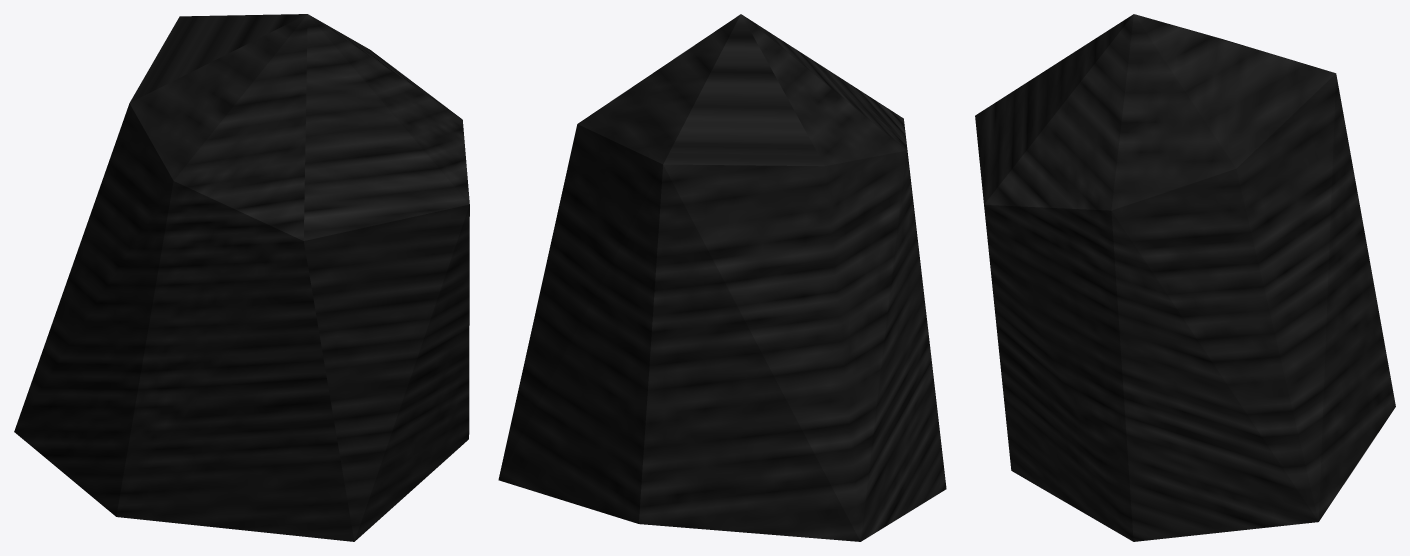
The model's file is Neck.obj.
3 views of the same model, side by side, from view 1: azimuth 30°, elevation 25°; view 2: azimuth 150°, elevation 25°; view 3: azimuth 270°, elevation 25° (orthographic). The views are drawn at different scales.
Parts seen in each view (by area): view 1: Neck; view 2: Neck; view 3: Neck.
Part boxes in pixels (<box>): Neck: <box>14,14,469,541</box>; Neck: <box>498,14,946,541</box>; Neck: <box>975,14,1395,541</box>.
Size of the model in its own units: 0.3514 by 0.4341 by 0.3565.
